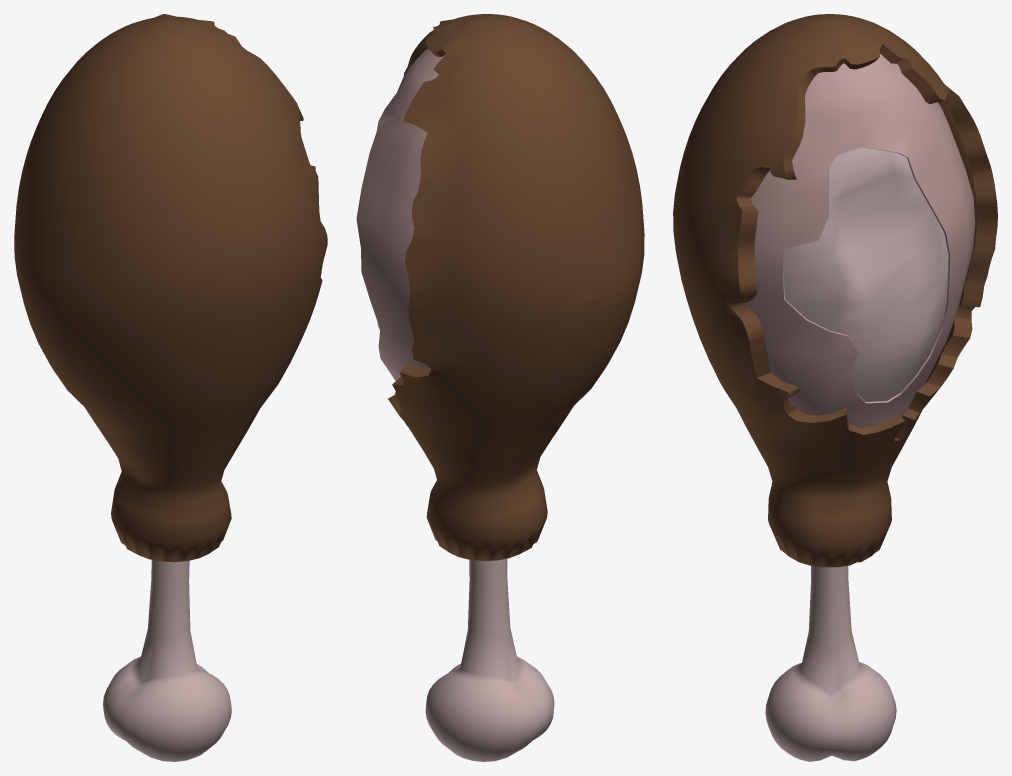
The model's file is Chicken.fbx.
The picture shows the model from 3 angles, left to right: view 1: azimuth 30°, elevation 25°; view 2: azimuth 150°, elevation 25°; view 3: azimuth 270°, elevation 25°; orthographic projection.
Parts seen in each view (by area): view 1: pSphere1, pSphere2; view 2: pSphere1, pSphere2, pSphere3; view 3: pSphere1, pSphere3, pSphere4, pSphere2.
Part boxes in pixels (<box>): pSphere1: <box>14,14,327,562</box>; pSphere2: <box>103,560,231,761</box>; pSphere1: <box>388,14,644,560</box>; pSphere2: <box>425,558,554,761</box>; pSphere3: <box>356,48,445,380</box>; pSphere1: <box>673,14,997,567</box>; pSphere3: <box>747,53,975,428</box>; pSphere4: <box>783,147,948,401</box>; pSphere2: <box>765,565,896,761</box>.
Bounding box in the file's own units: 1.91 × 5.25 × 2.11.
